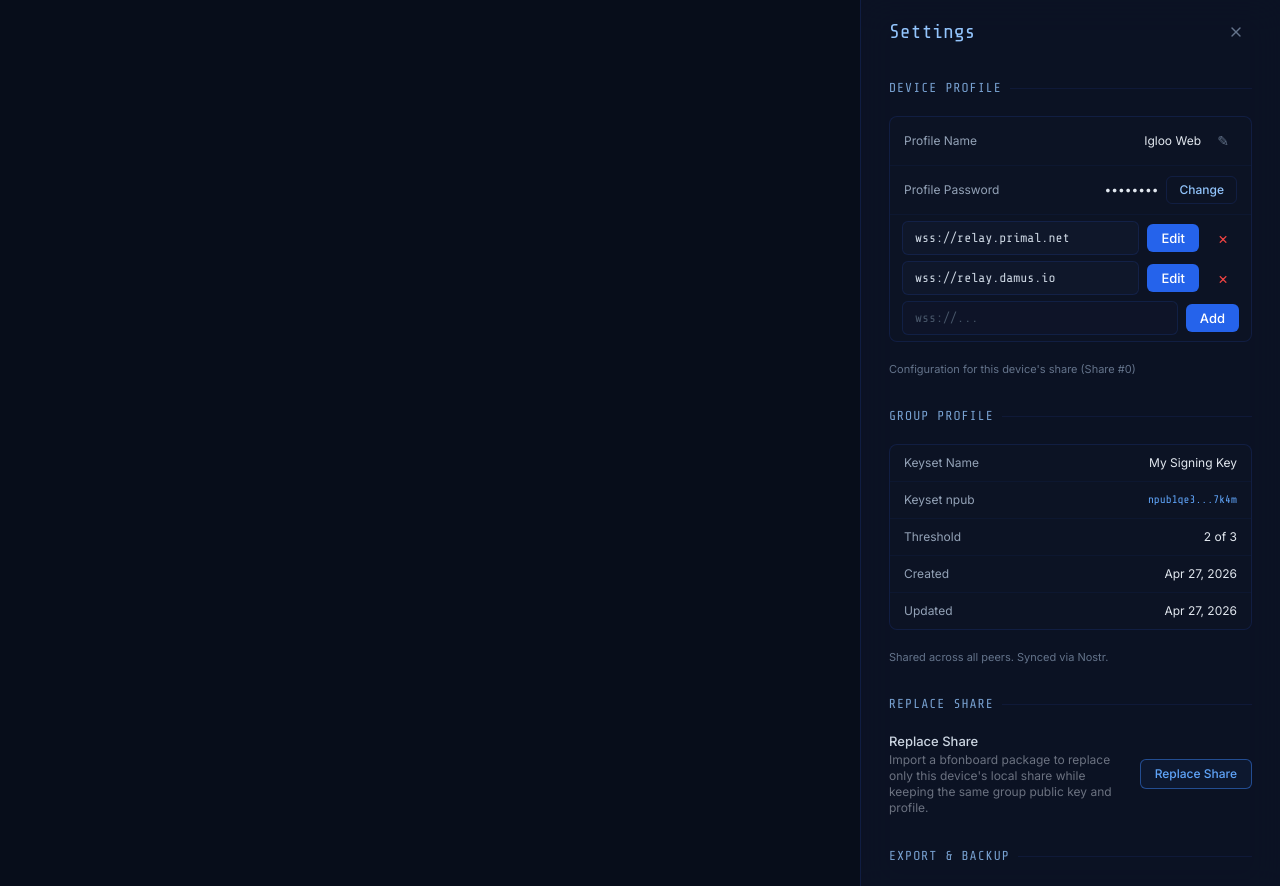
SettingsSidebar — Change Password (VAL-SETTINGS-018/019/026/027/028) › opens the change-password form when the Change button is clicked
Click the button with aria-label "change password" at (1202, 190), box [1166, 176, 1237, 204]
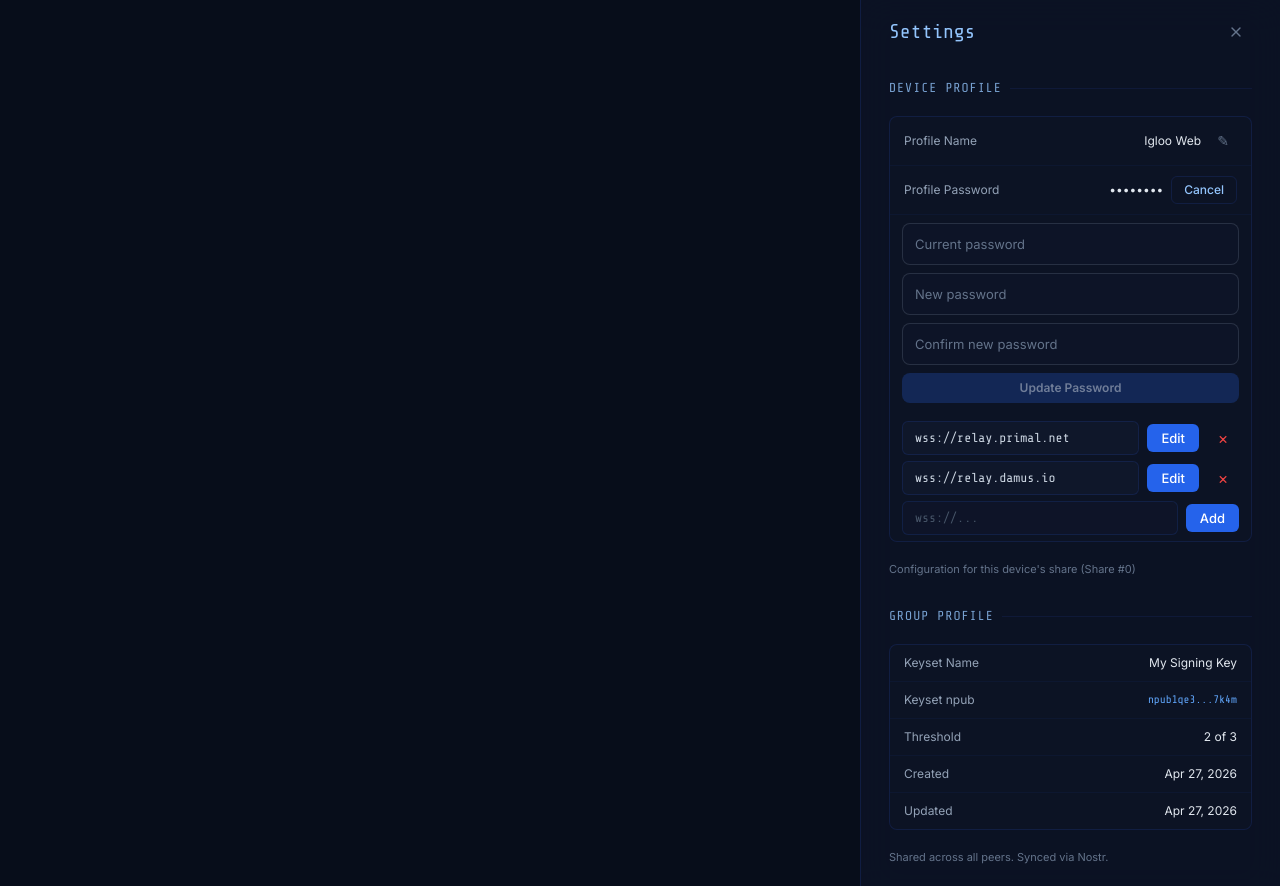
Result: the password field labelled "Current password" is shown at [902, 223, 1239, 265]
Result: the password field labelled "New password" is shown at [902, 273, 1239, 315]
Result: the password field labelled "Confirm new password" is shown at [902, 323, 1239, 365]
